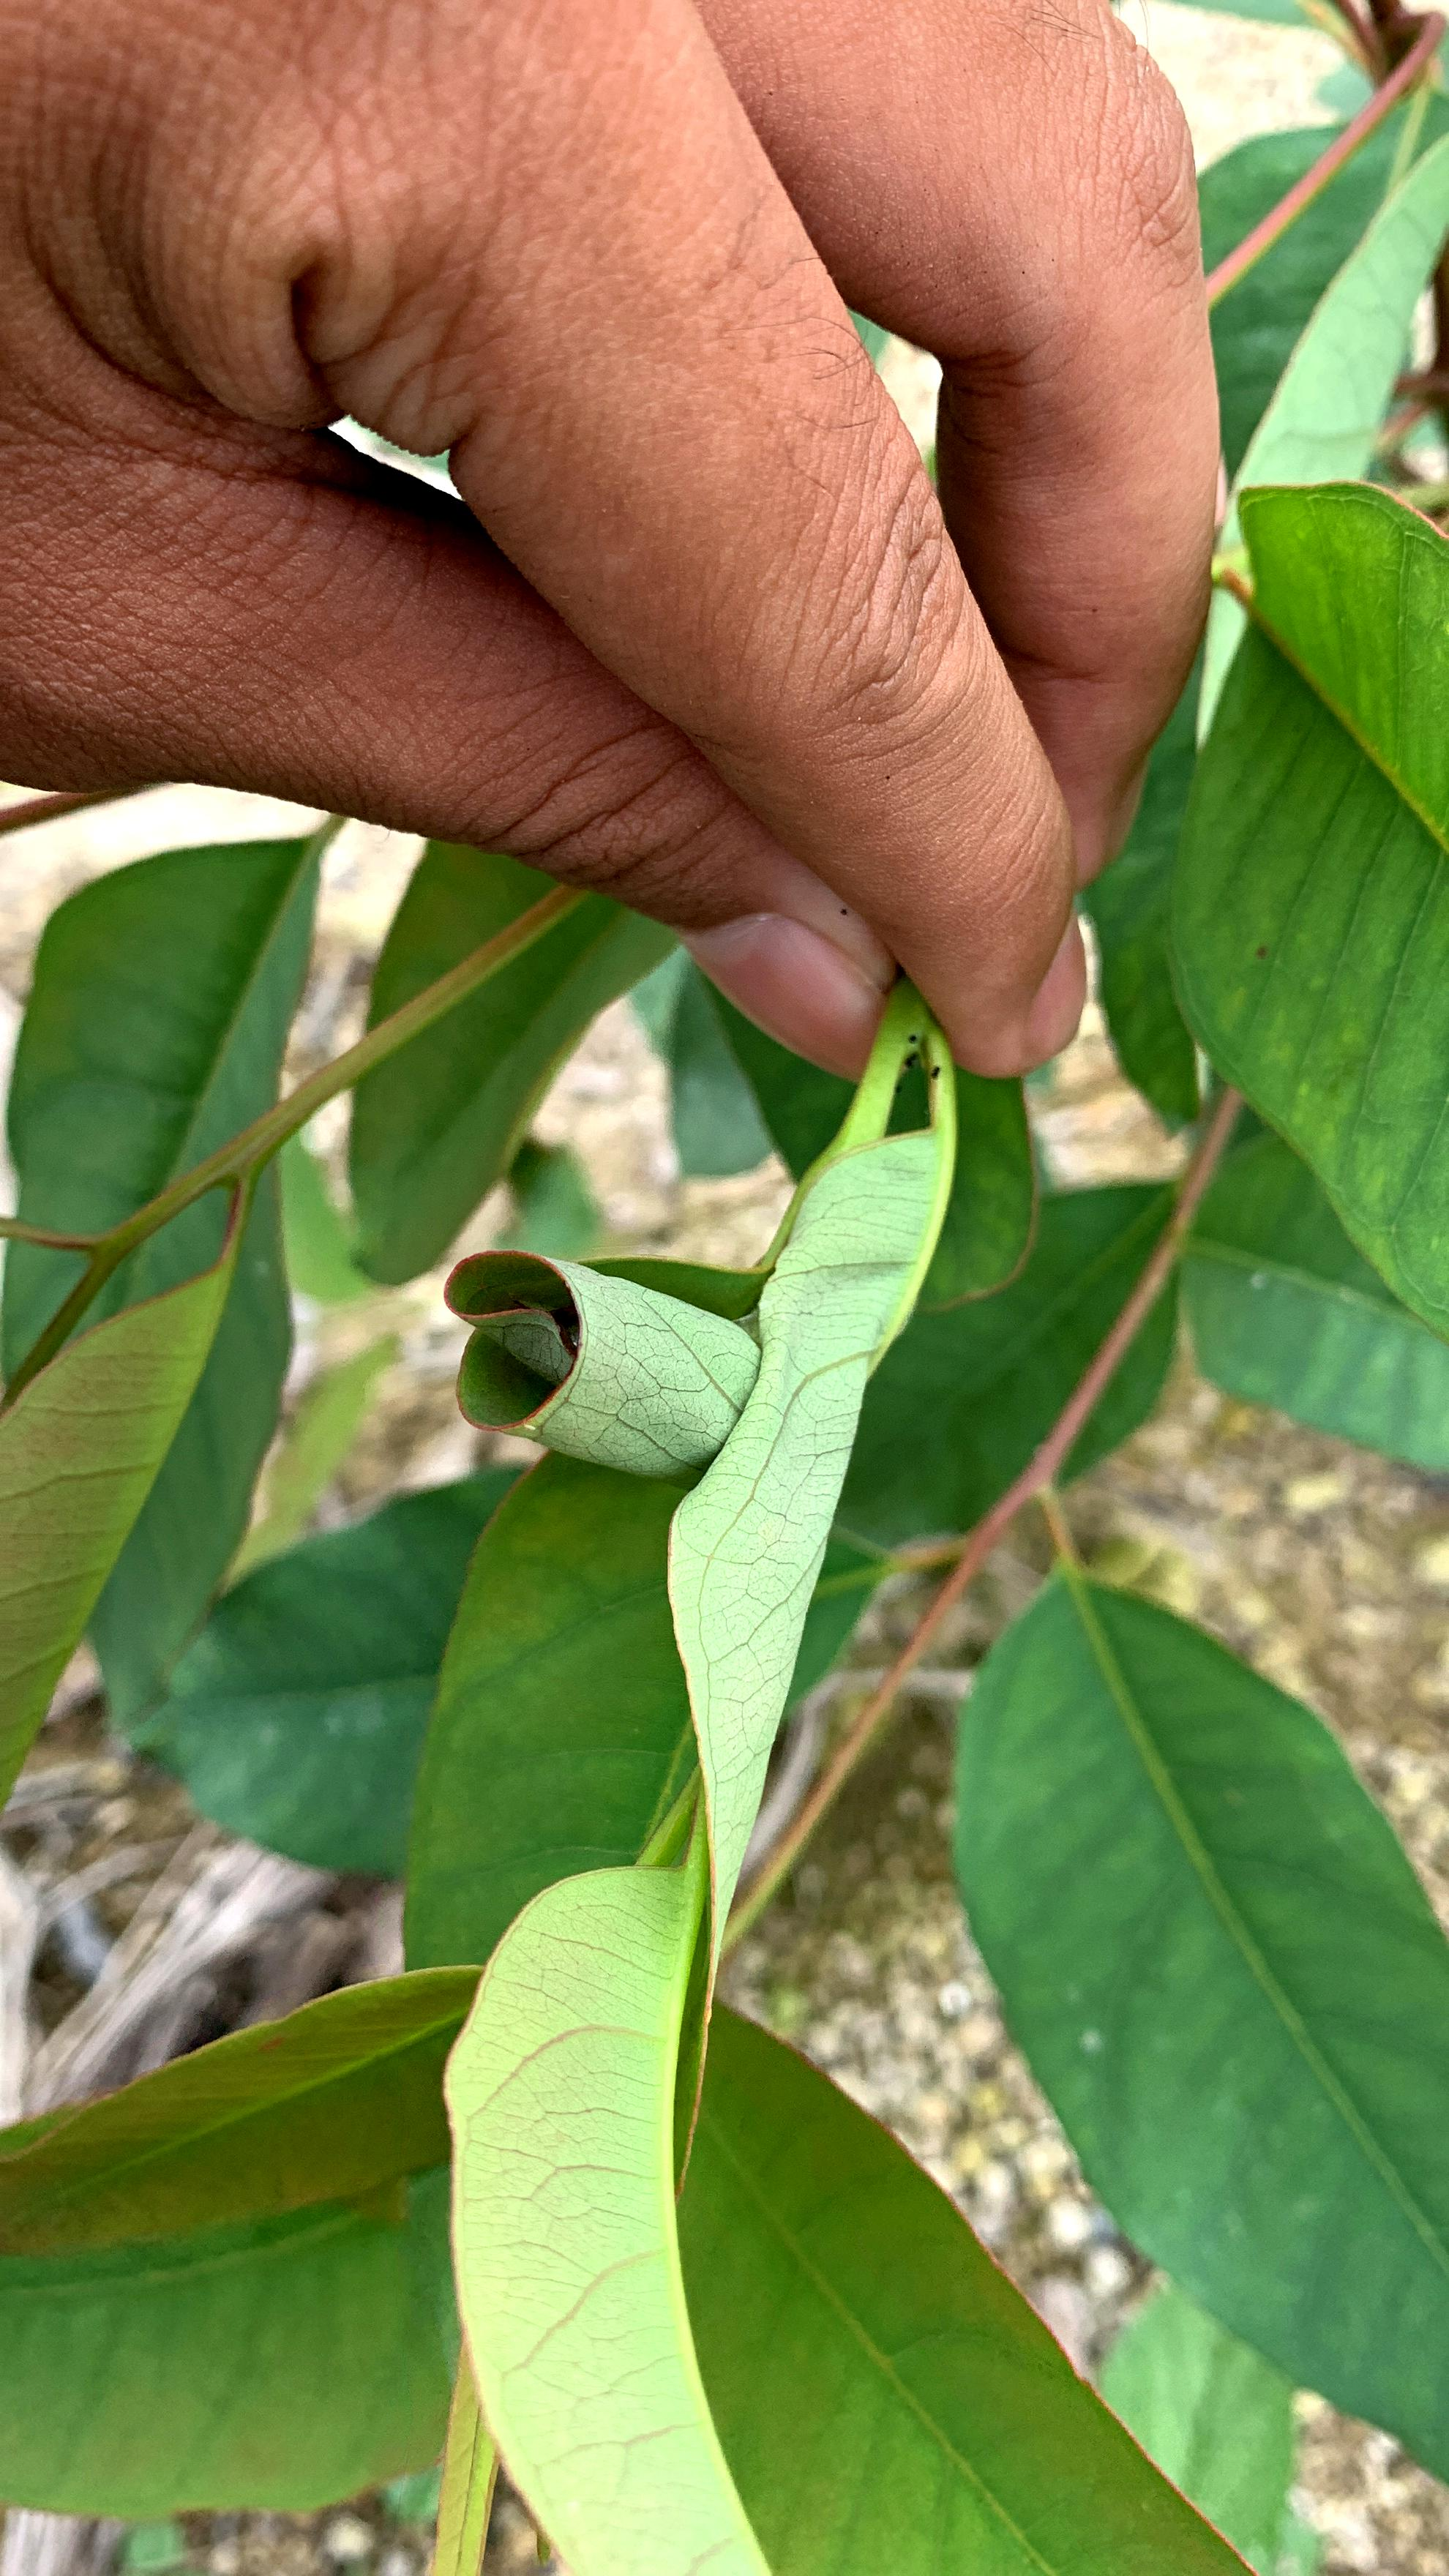Leaf Roller - Leaf: (410, 1208, 826, 1500)
